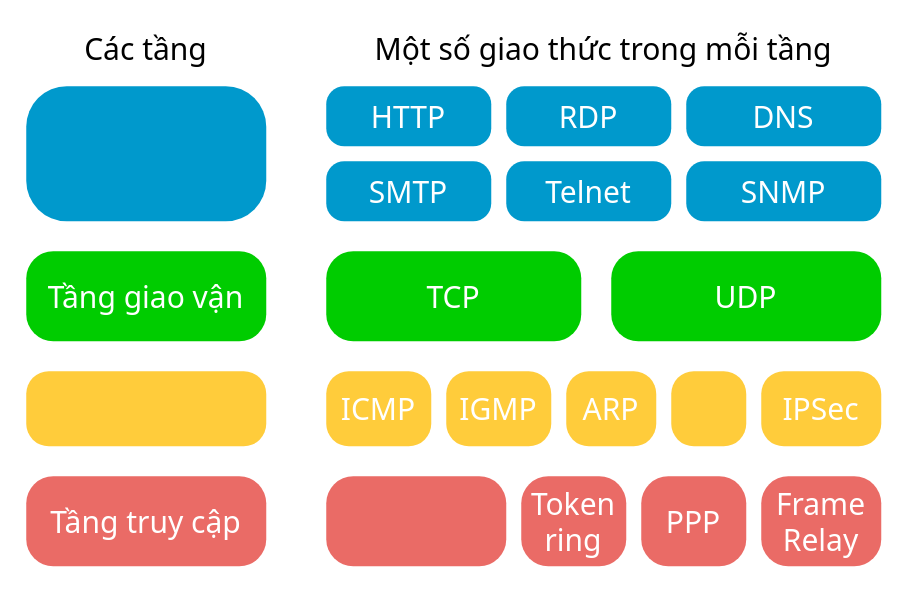
This 906x591 diagram has some shape labels left out. Each missing label, with the centre of its shape:
"Ethernet (IEEE 802.3)" belongs at point (416, 521).
"IP" belongs at point (708, 408).
"Tầng Internet" belongs at point (146, 408).
"Tầng ứng dụng" belongs at point (146, 153).
